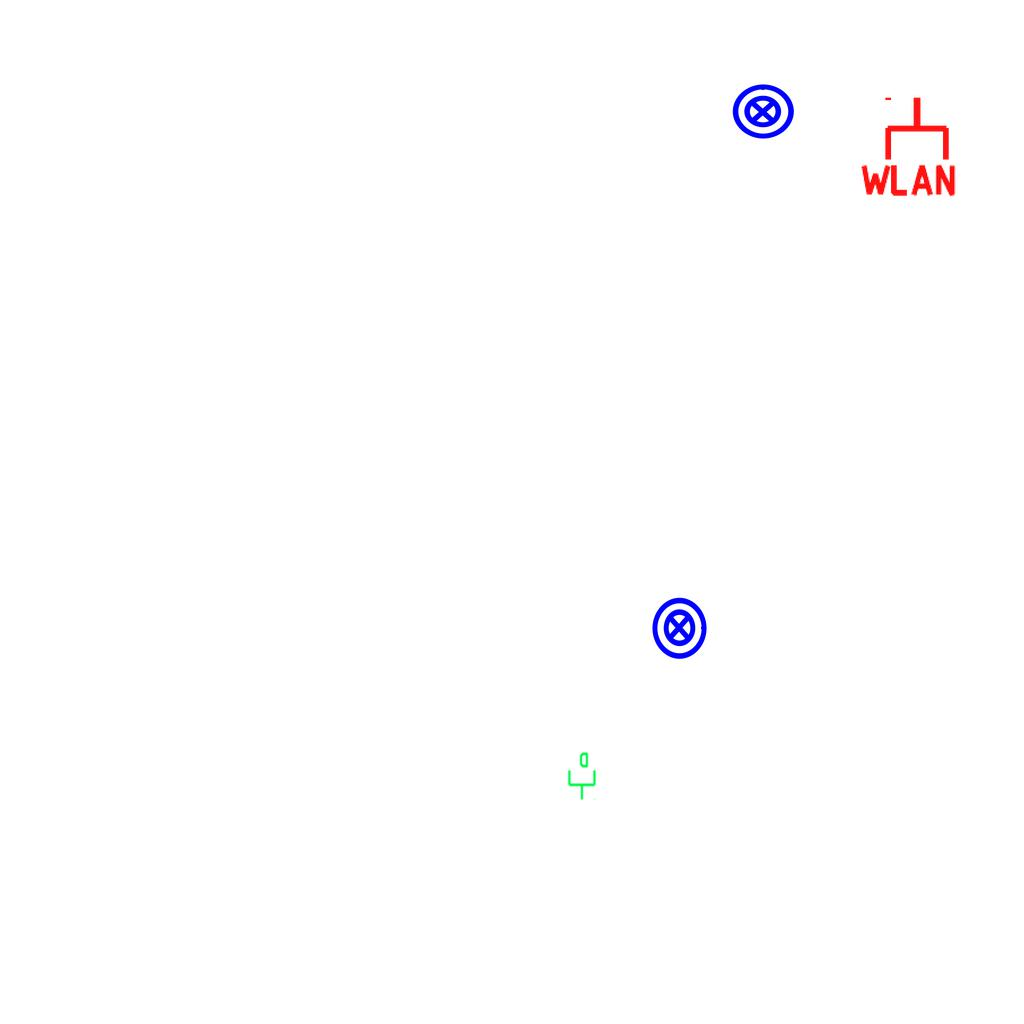Datenanschluss_einfach: (564, 751, 598, 801)
Taster_beleuchtet: (646, 595, 712, 661), (730, 79, 796, 145)
WLAN: (856, 93, 960, 198)
